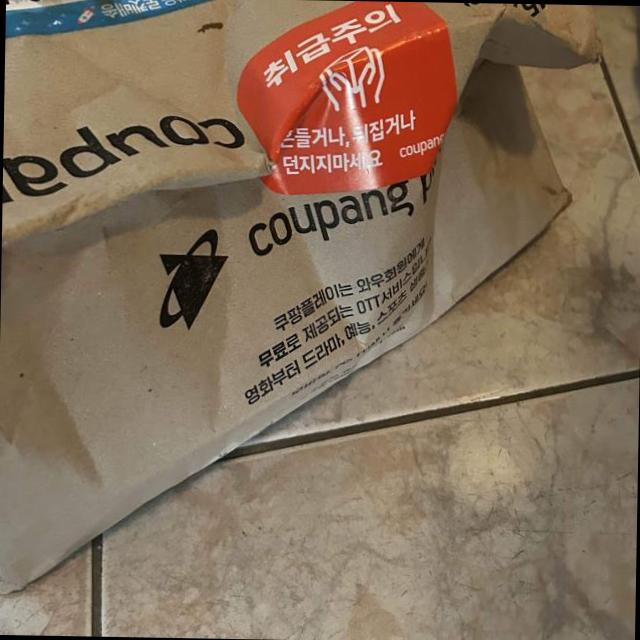box: (1, 1, 602, 600)
crushed: (2, 1, 602, 559)
